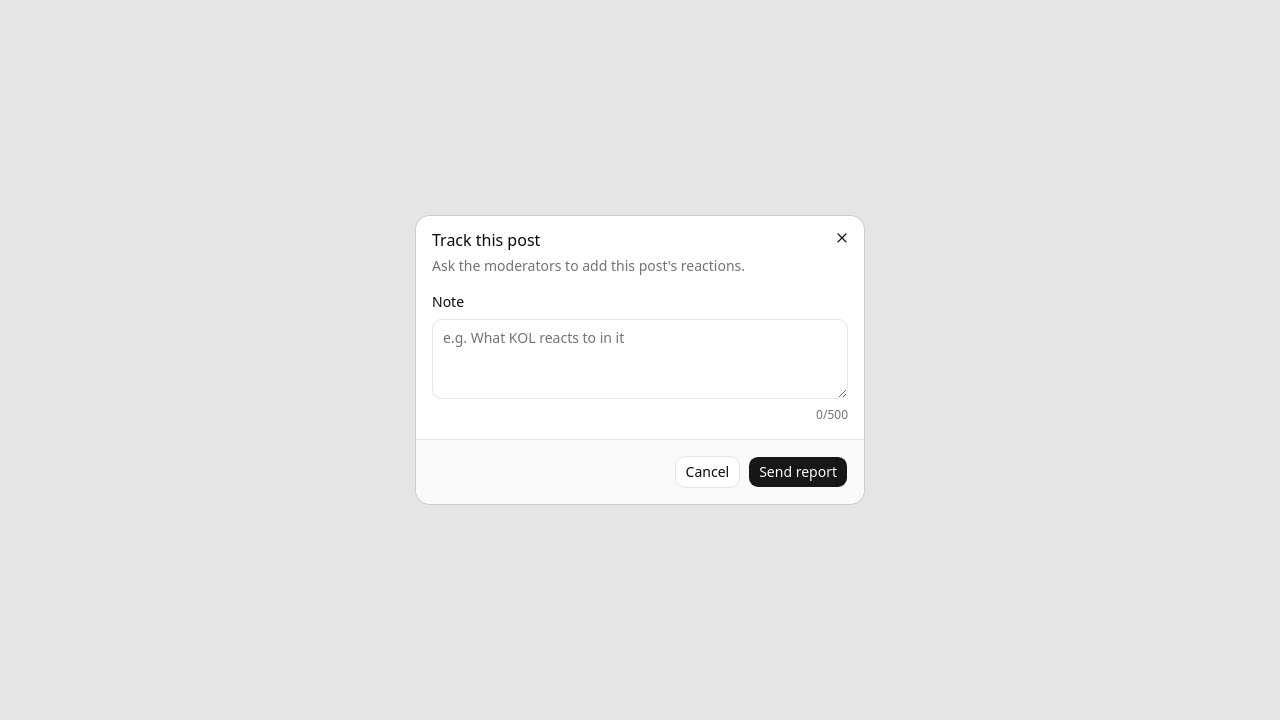
Test case: reportDialog › shows why a report was refused
The width and height of the screenshot is (1280, 720).
Click the button "Send report": (798, 472) [748,456,848,488]
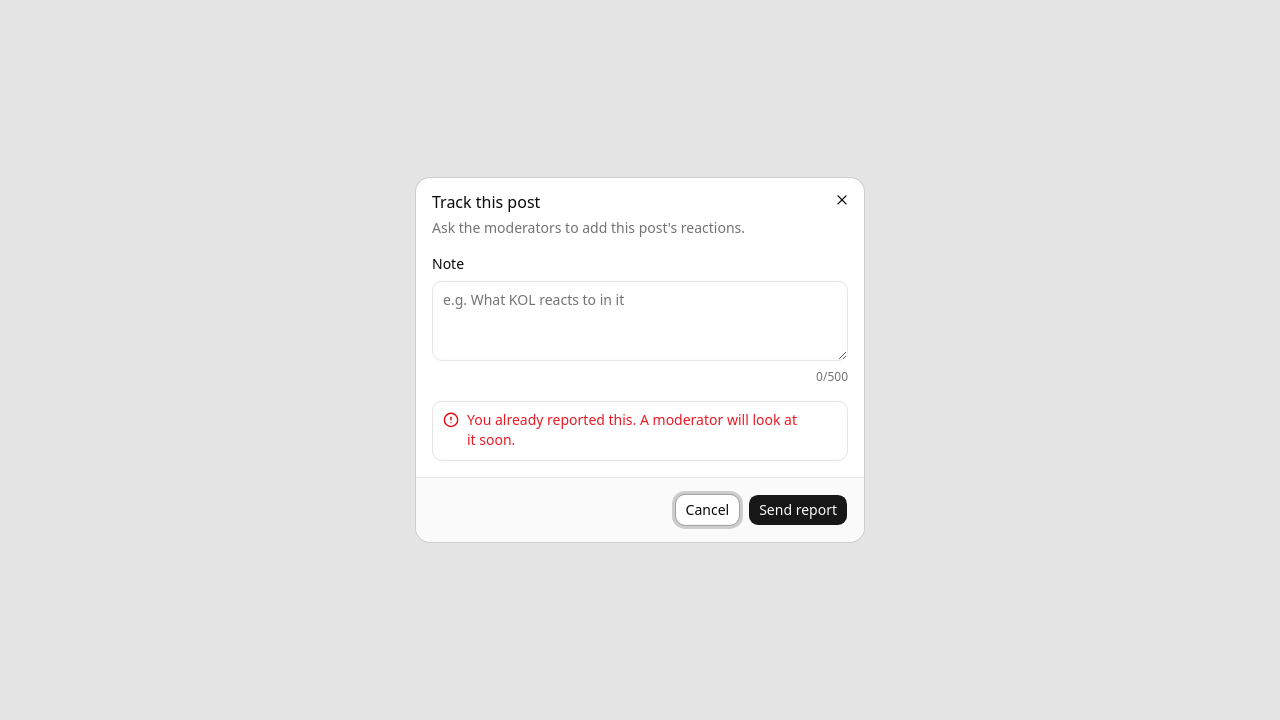
Expected: the text "You already reported this. A moderator will look at it soon." is shown, [467,410,837,450]
